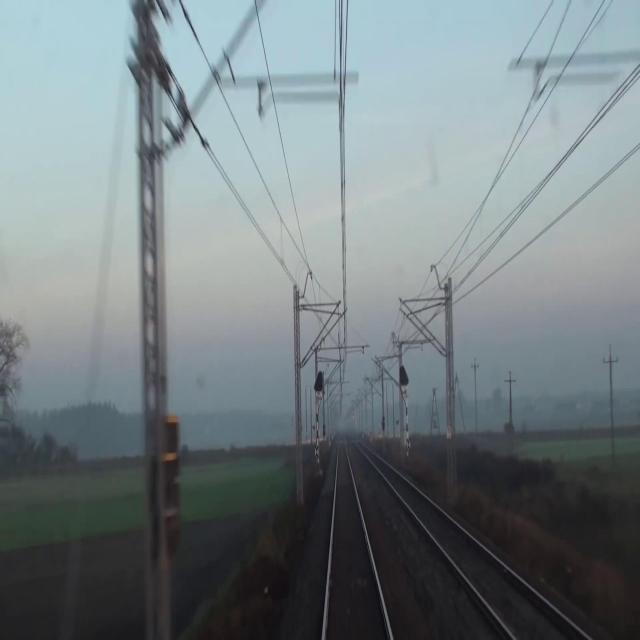rail-track: (372, 456, 582, 639), (327, 443, 388, 639)
